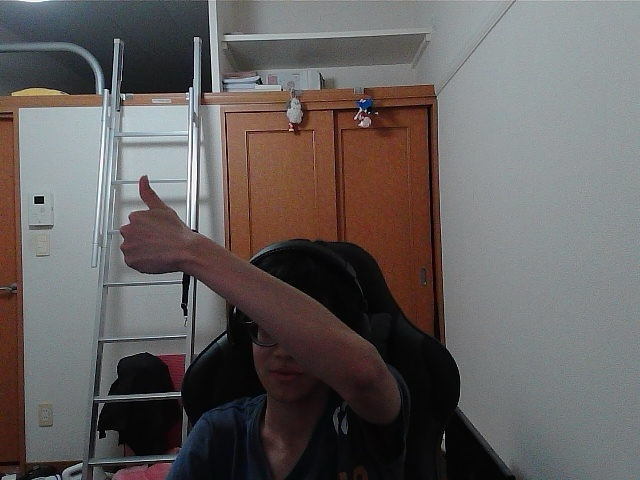thumb_up: (126, 179, 184, 264)
